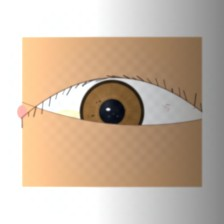pinguecula_lesion: (42, 95, 93, 135)
